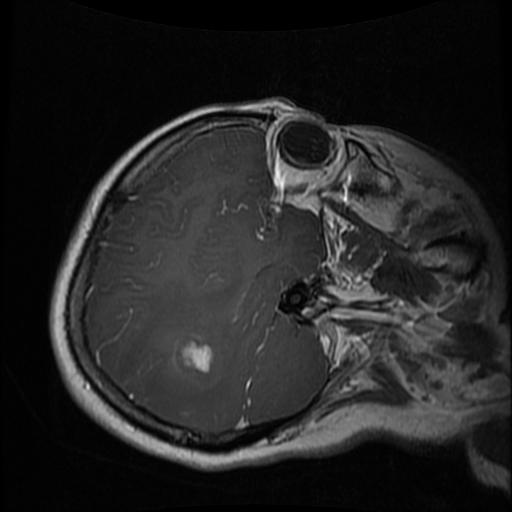glioma: (181, 338, 211, 375)
